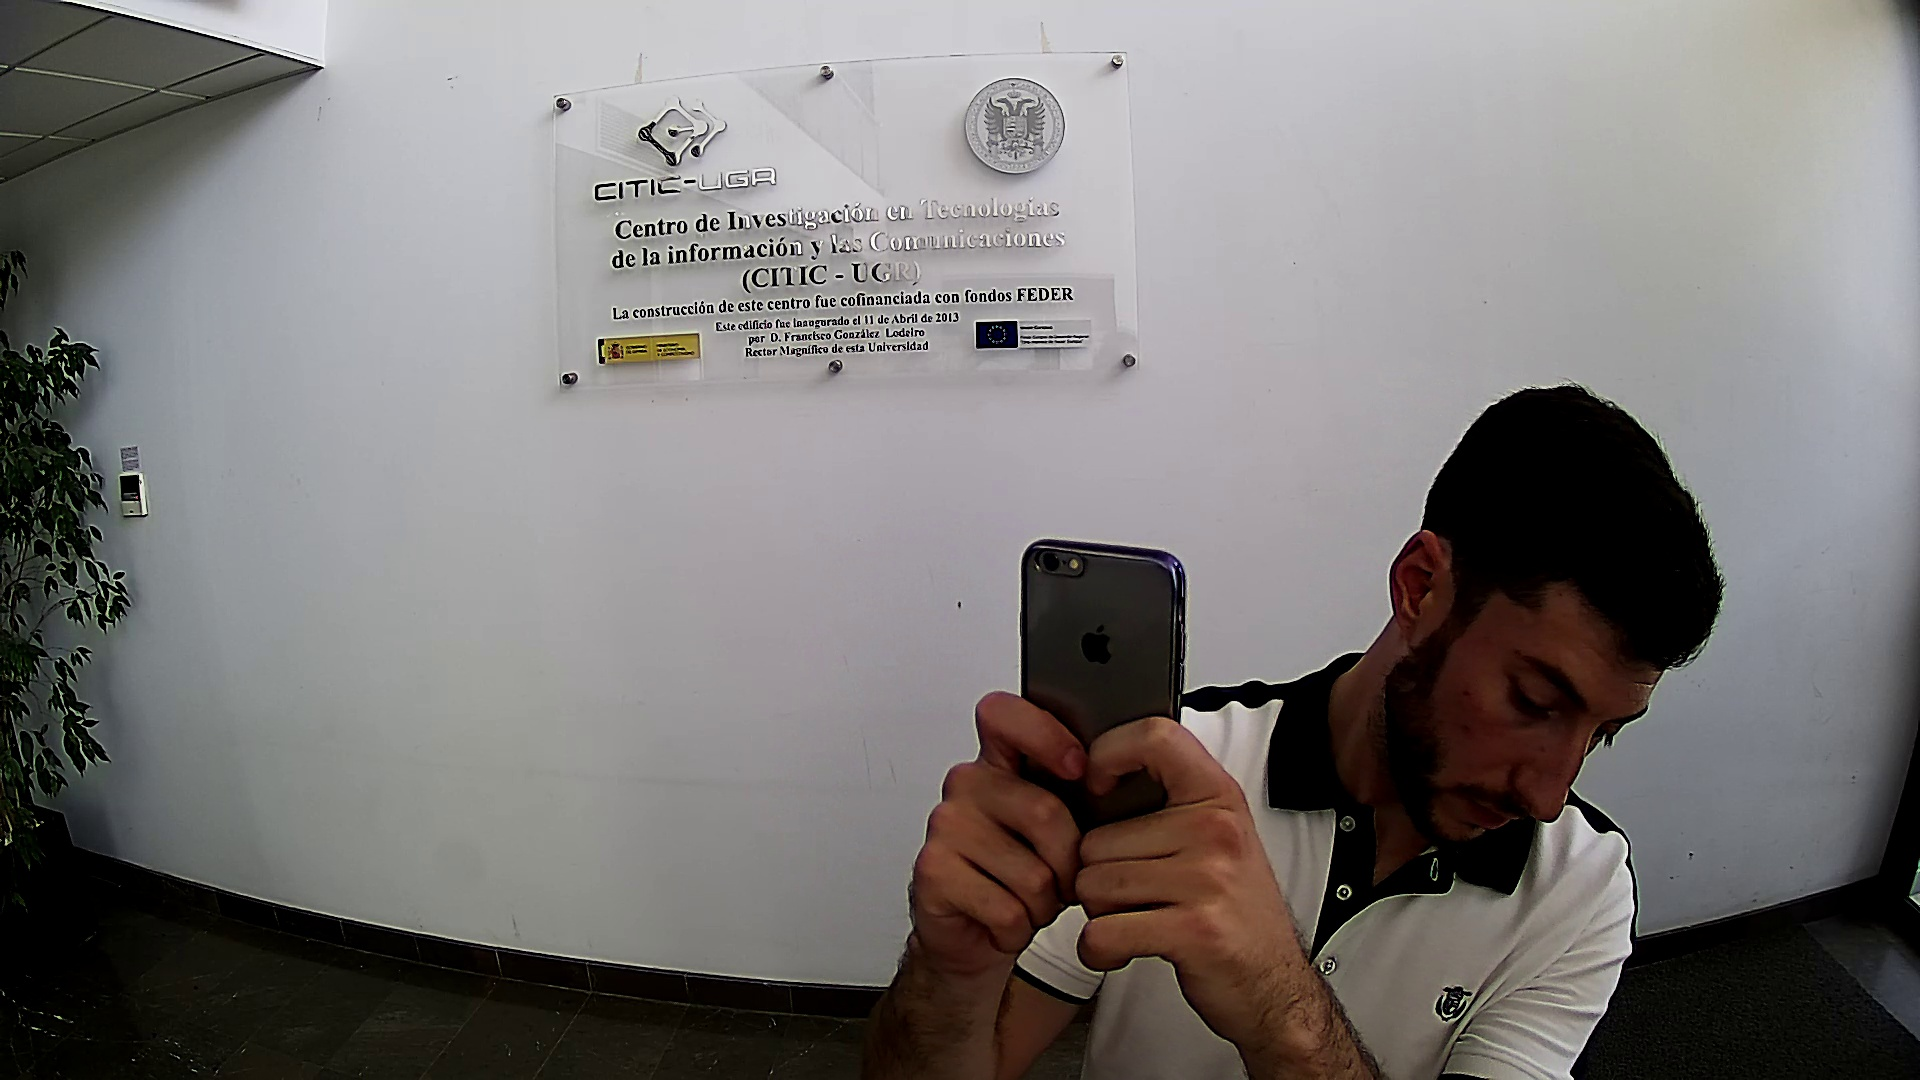smartphone: (1014, 535, 1189, 855)
